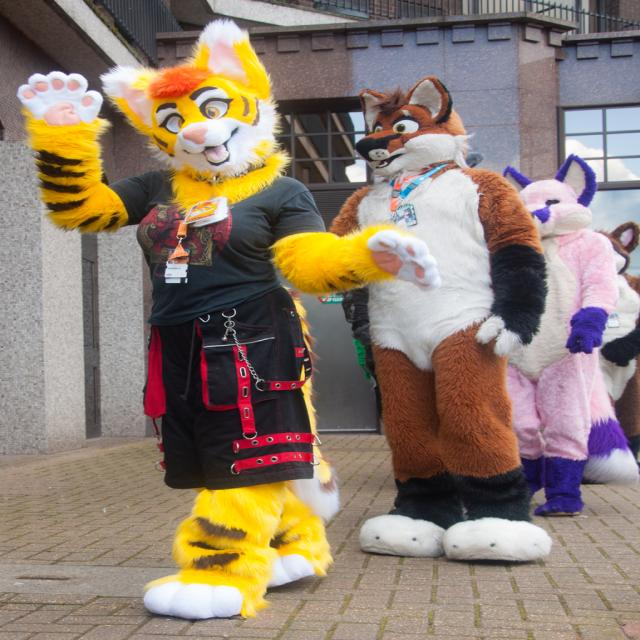Toy: (11, 17, 443, 623), (293, 72, 566, 555), (516, 180, 617, 522)
